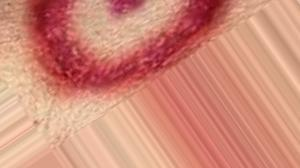Tick: (29, 0, 219, 85)
